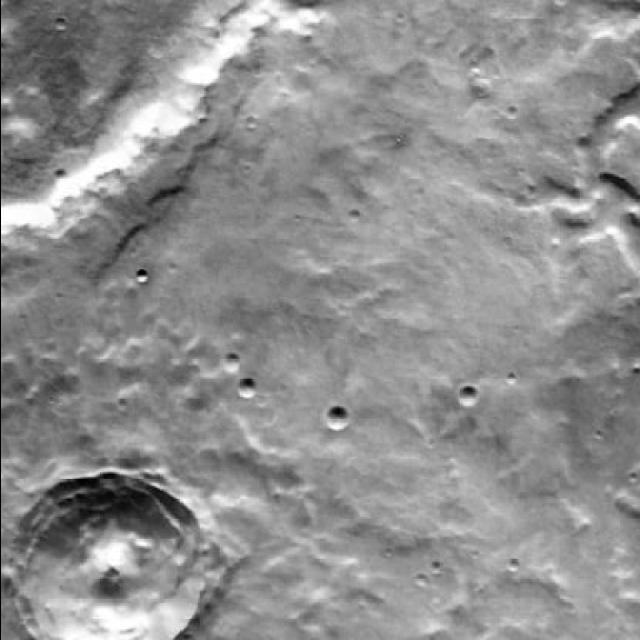crater: (9, 480, 206, 640), (327, 407, 350, 430), (221, 353, 244, 376), (456, 384, 478, 406), (238, 380, 258, 400)
